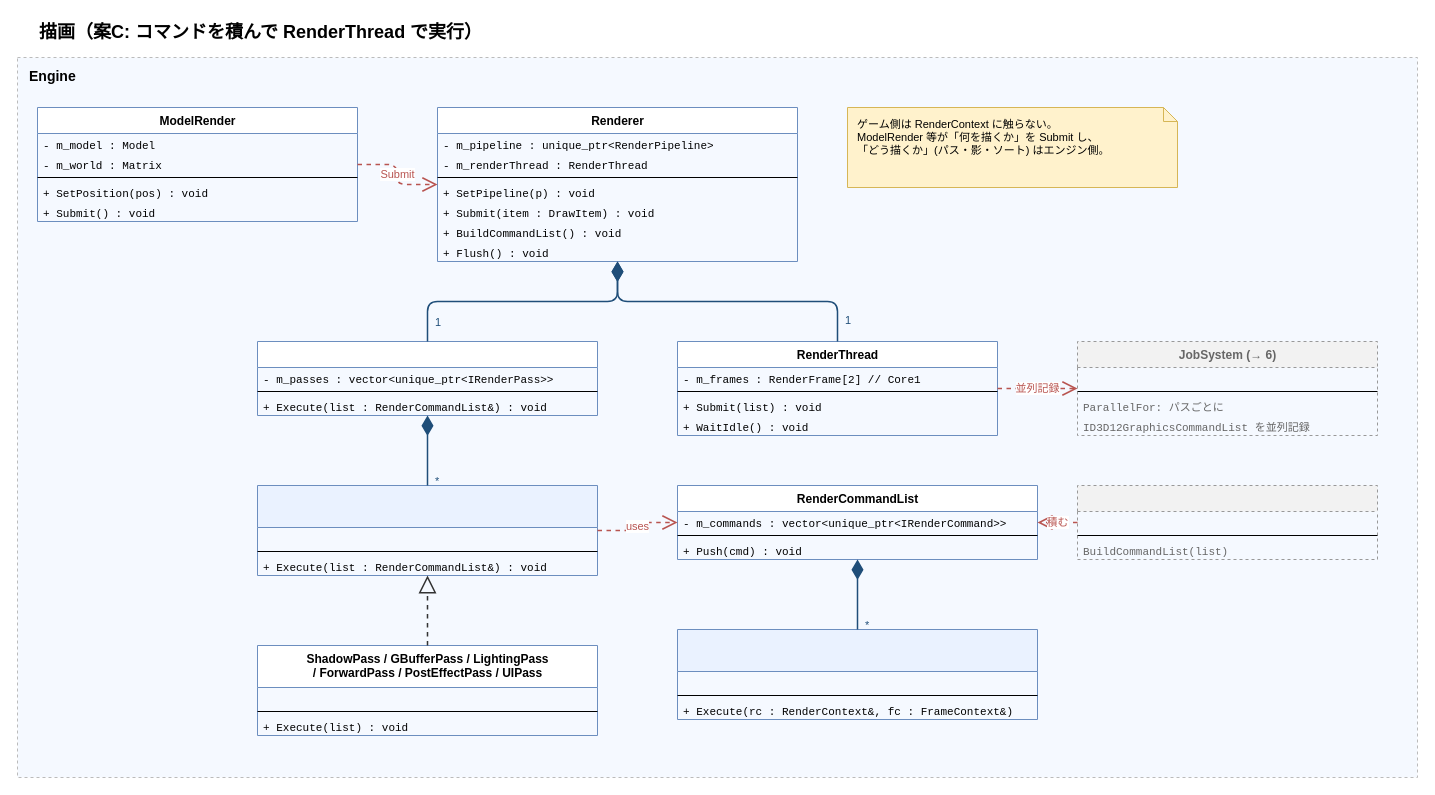
Image size: 1435x795. Some labels were removed from this diagram. The box of each missing label's shape, as (x1, y1, x2, y2) in pixels:
<<interface>> IRenderCommand: (676, 628, 1038, 720)
<<interface>> IRenderPass: (256, 484, 598, 576)
RenderPipeline: (256, 340, 598, 416)
UIBatchRenderer (→ 5): (1076, 484, 1378, 560)
